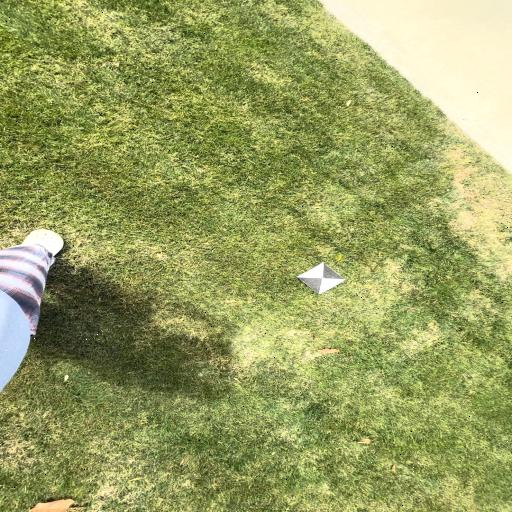target: (296, 262, 345, 294)
